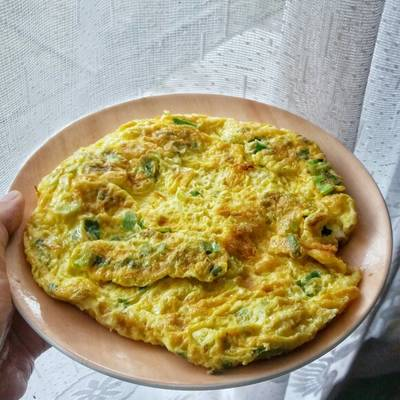Telur: (52, 116, 341, 354)
